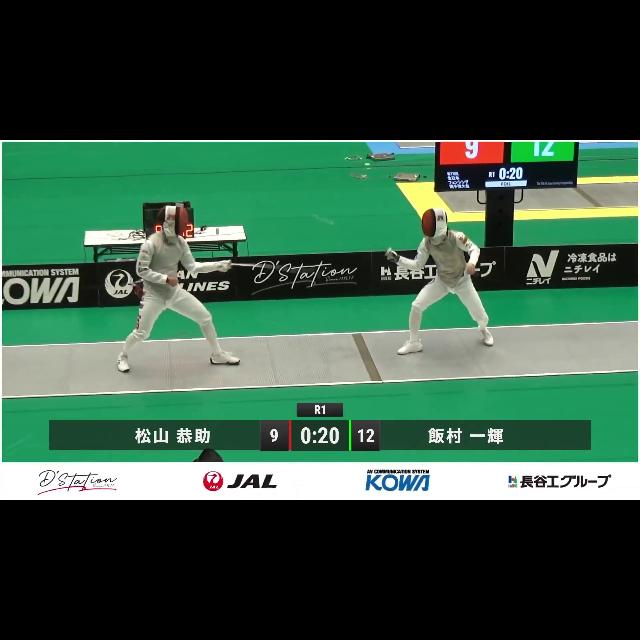blade: (308, 212, 398, 262), (226, 258, 320, 282)
